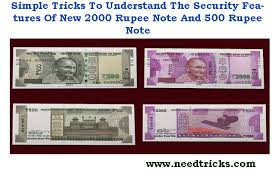fiveHundred: (19, 51, 124, 81)
